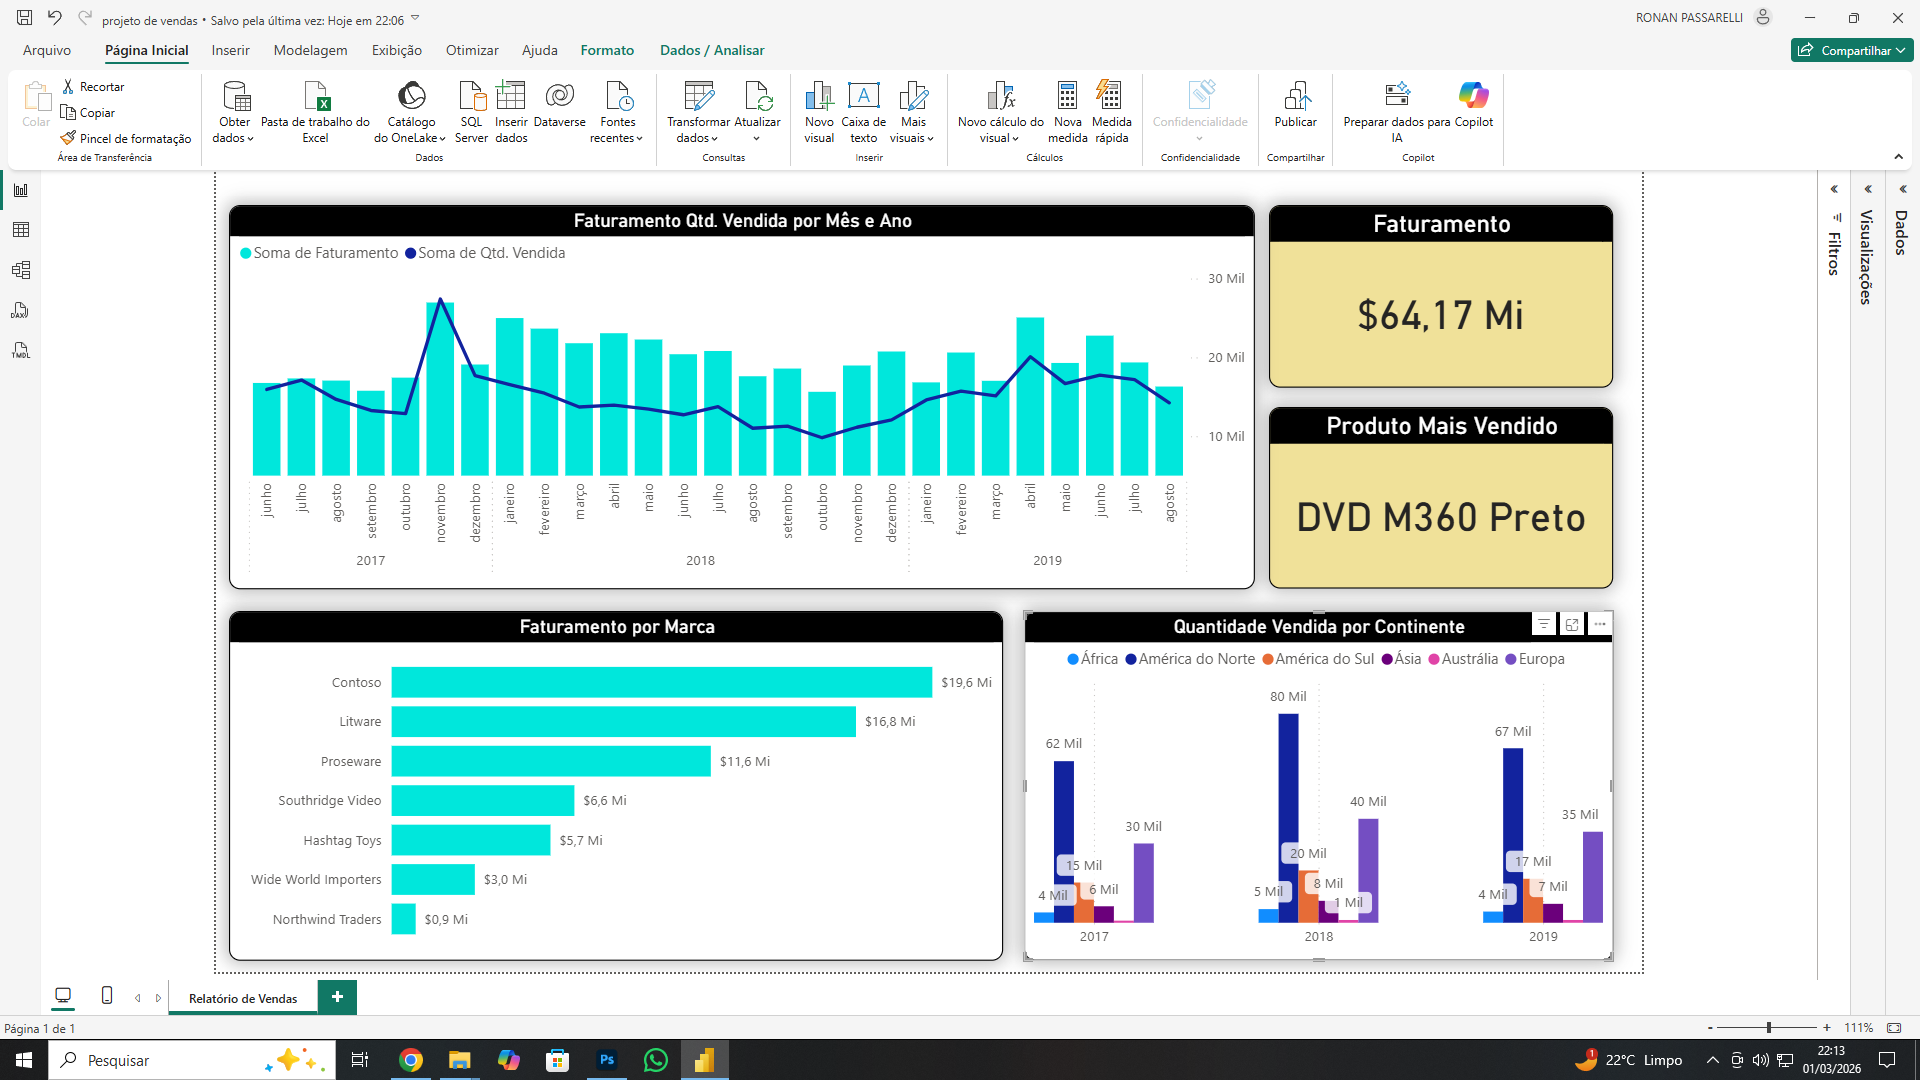

This screenshot's page, from the dashboard's own definition file:
{"tool":"powerbi","page":{"name":"Relatório de Vendas","canvas":[1280,720],"ordinal":0},"visuals":[{"type":"cardVisual","title":"Faturamento","fields":{"Data":["Sum(BaseVendas.Faturamento)"]},"box":[945.1,31.2,309,163.6],"z":0},{"type":"cardVisual","title":"Produto Mais Vendido","fields":{"Data":["Min(BaseVendas.Produto)"]},"box":[945.4,213,309.3,163.4],"z":1000},{"type":"barChart","title":"Faturamento por Marca","fields":{"Y":["Sum(BaseVendas.Faturamento)"],"Category":["BaseVendas.Marca"]},"box":[11.7,395.9,695.4,314.2],"z":2000},{"type":"lineClusteredColumnComboChart","title":"Faturamento Qtd. Vendida por Mês e Ano","fields":{"Y":["Sum(BaseVendas.Faturamento)"],"Category":["BaseVendas.Data da Venda.Variation.Hierarquia de datas.Ano","BaseVendas.Data da Venda.Variation.Hierarquia de datas.Mês"],"Y2":["Sum(BaseVendas.Qtd. Vendida)"]},"box":[11.7,31.1,921.1,345.3],"z":3000},{"type":"clusteredColumnChart","title":" Quantidade Vendida por Continente","fields":{"Category":["BaseVendas.Data da Venda.Variation.Hierarquia de datas.Ano"],"Y":["Sum(BaseVendas.Qtd. Vendida)"],"Series":["BaseVendas.Continente"]},"box":[725.4,395.9,528.8,314.2],"z":4000}]}

Visuals, with their boxes on the page's 1280x720 design canvas (x1, y1, x2, y2). These are canvas units, not pixel positions in the 1920x1080 screenshot, which may show the page scaled, cropped or inside an application window:
"Faturamento" cardVisual: region(945, 31, 1254, 195)
"Produto Mais Vendido" cardVisual: region(945, 213, 1255, 376)
"Faturamento por Marca" barChart: region(12, 396, 707, 710)
"Faturamento Qtd. Vendida por Mês e Ano" lineClusteredColumnComboChart: region(12, 31, 933, 376)
" Quantidade Vendida por Continente" clusteredColumnChart: region(725, 396, 1254, 710)
